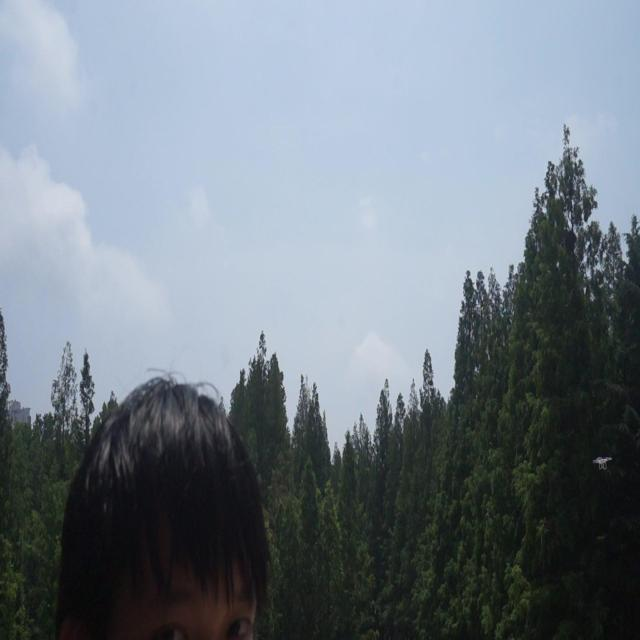drone: (592, 452, 614, 474)
